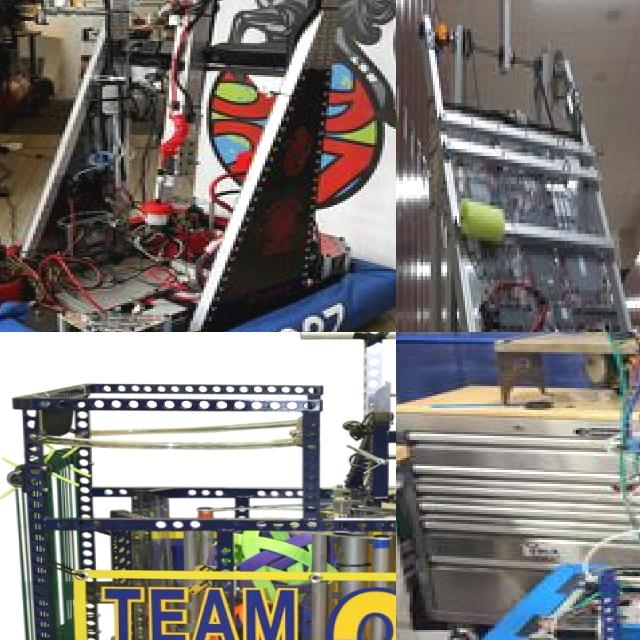FRC-Robots: (0, 0, 396, 332), (0, 332, 396, 640), (396, 0, 640, 332), (402, 332, 640, 640)
